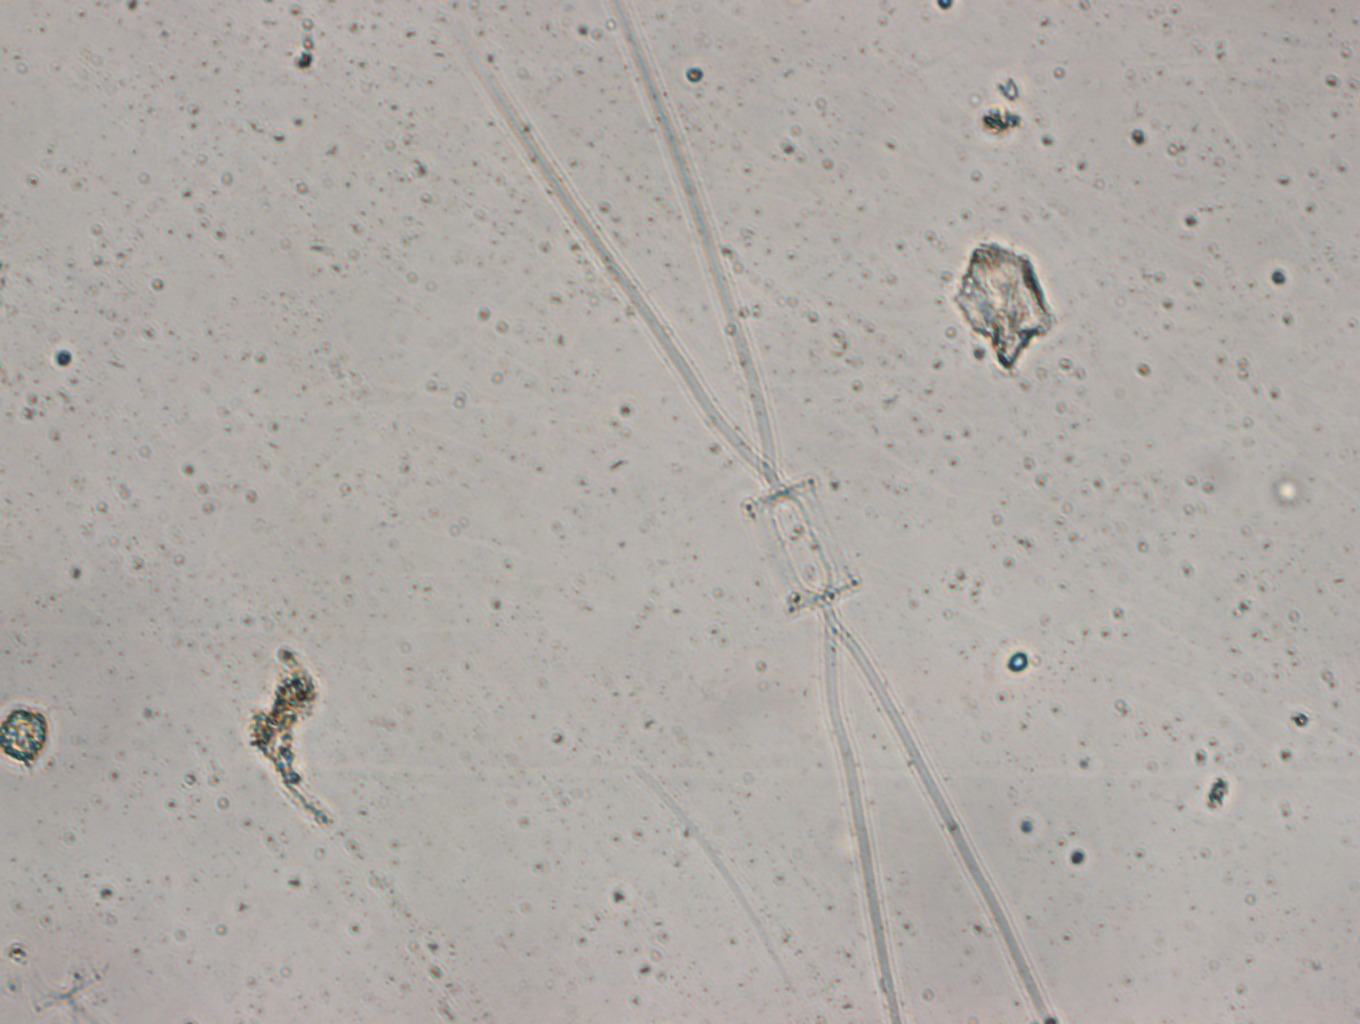chaetoceros: (444, 1, 1053, 1024)
